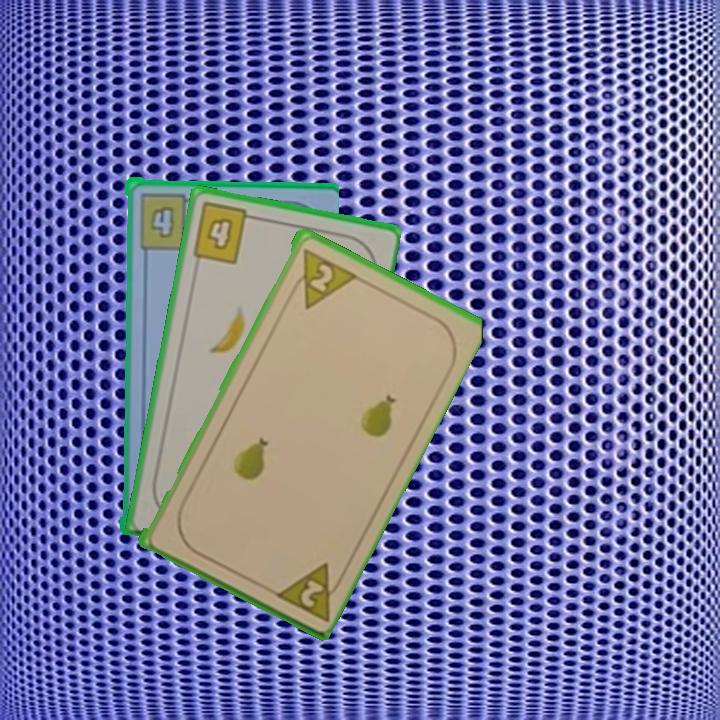2p: (268, 558, 348, 623), (285, 243, 358, 312)
4b: (188, 199, 260, 267), (135, 189, 198, 251)
